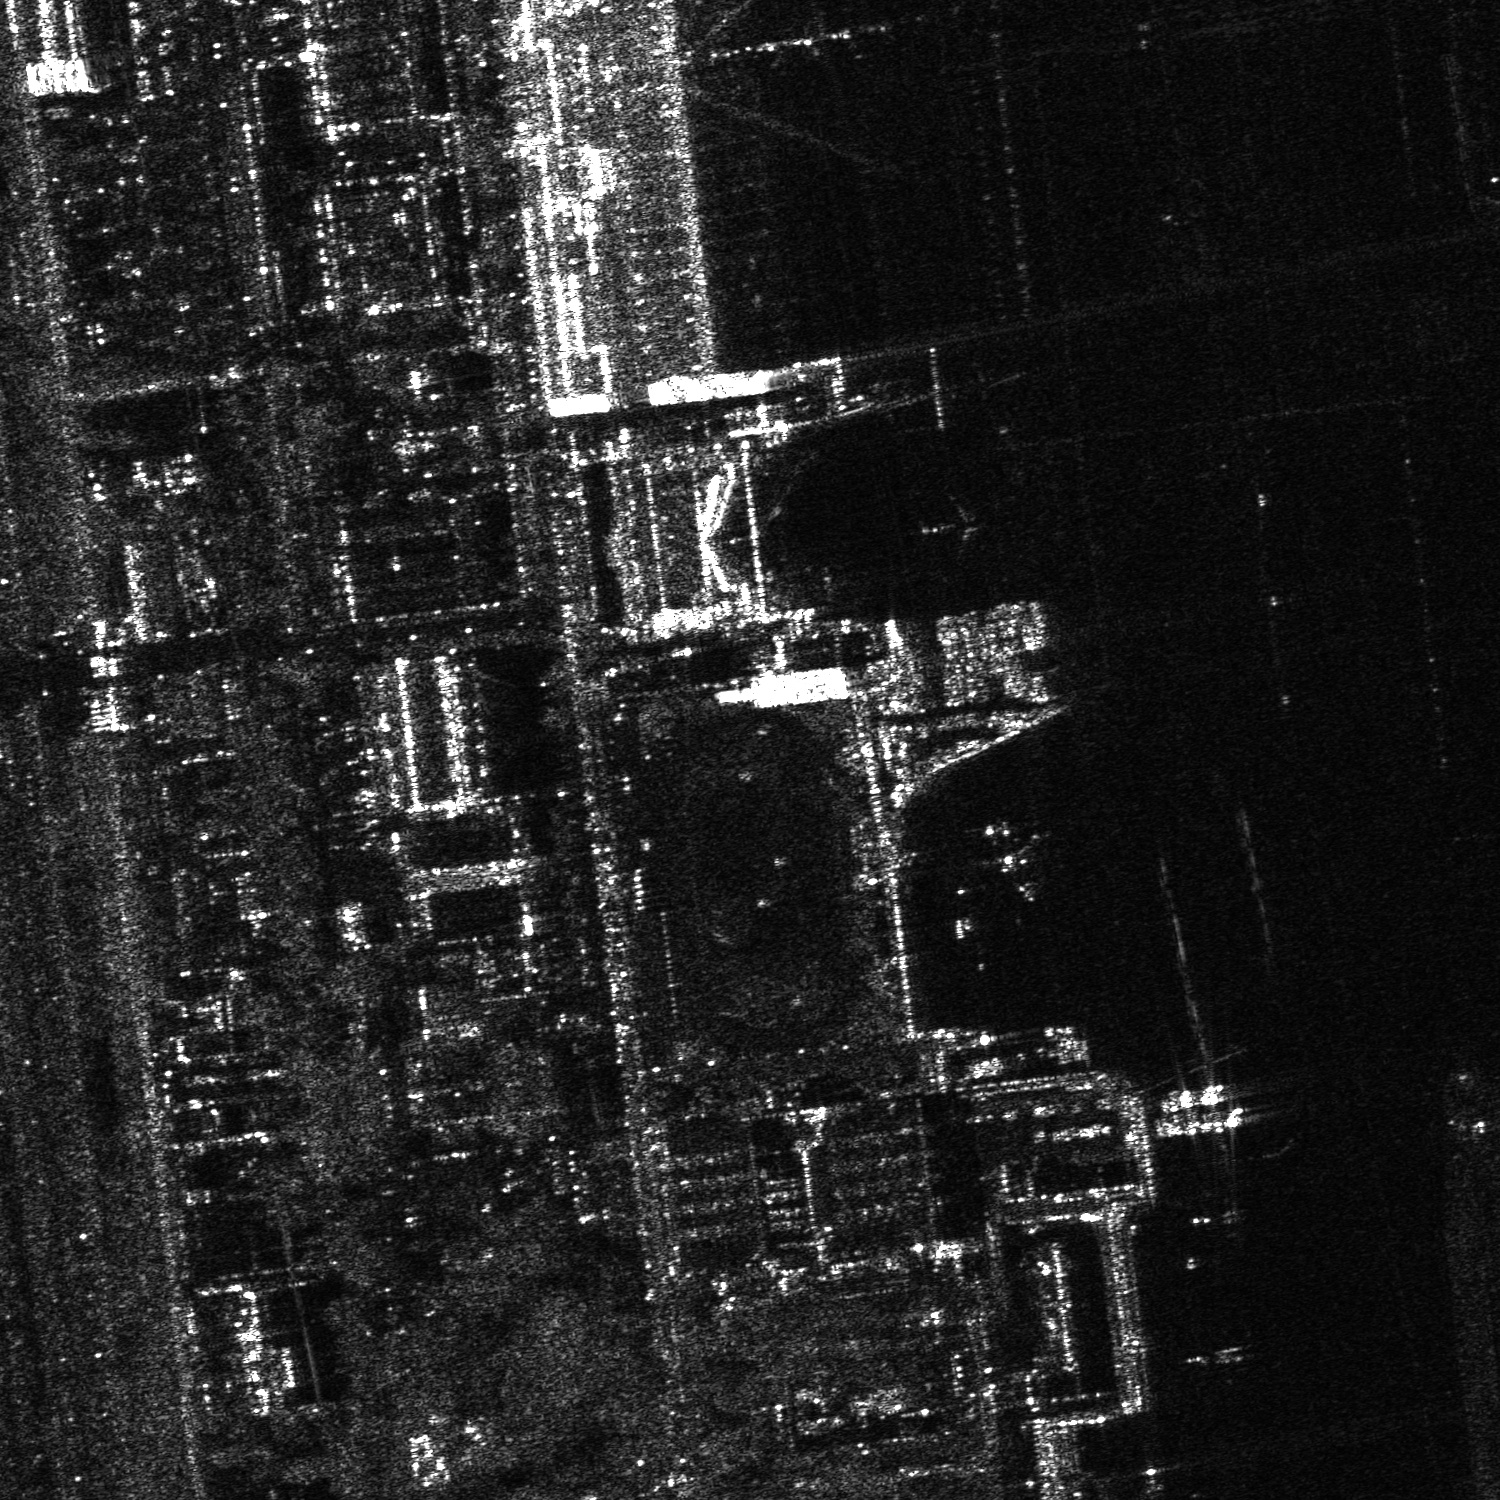Boeing787: (959, 815, 1044, 907)
other: (916, 489, 993, 559)
